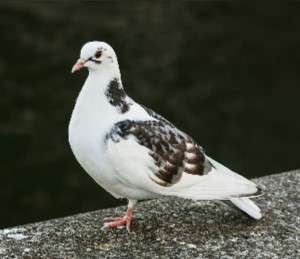pigeon: (66, 39, 266, 234)
